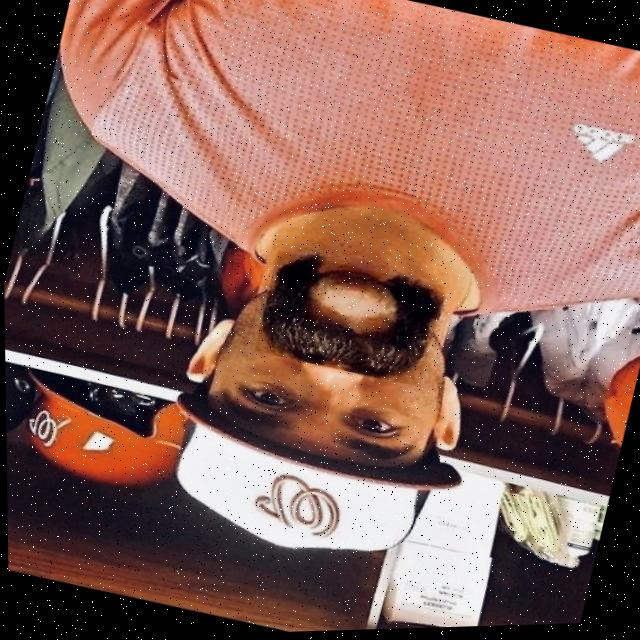beard: (262, 259, 440, 377)
